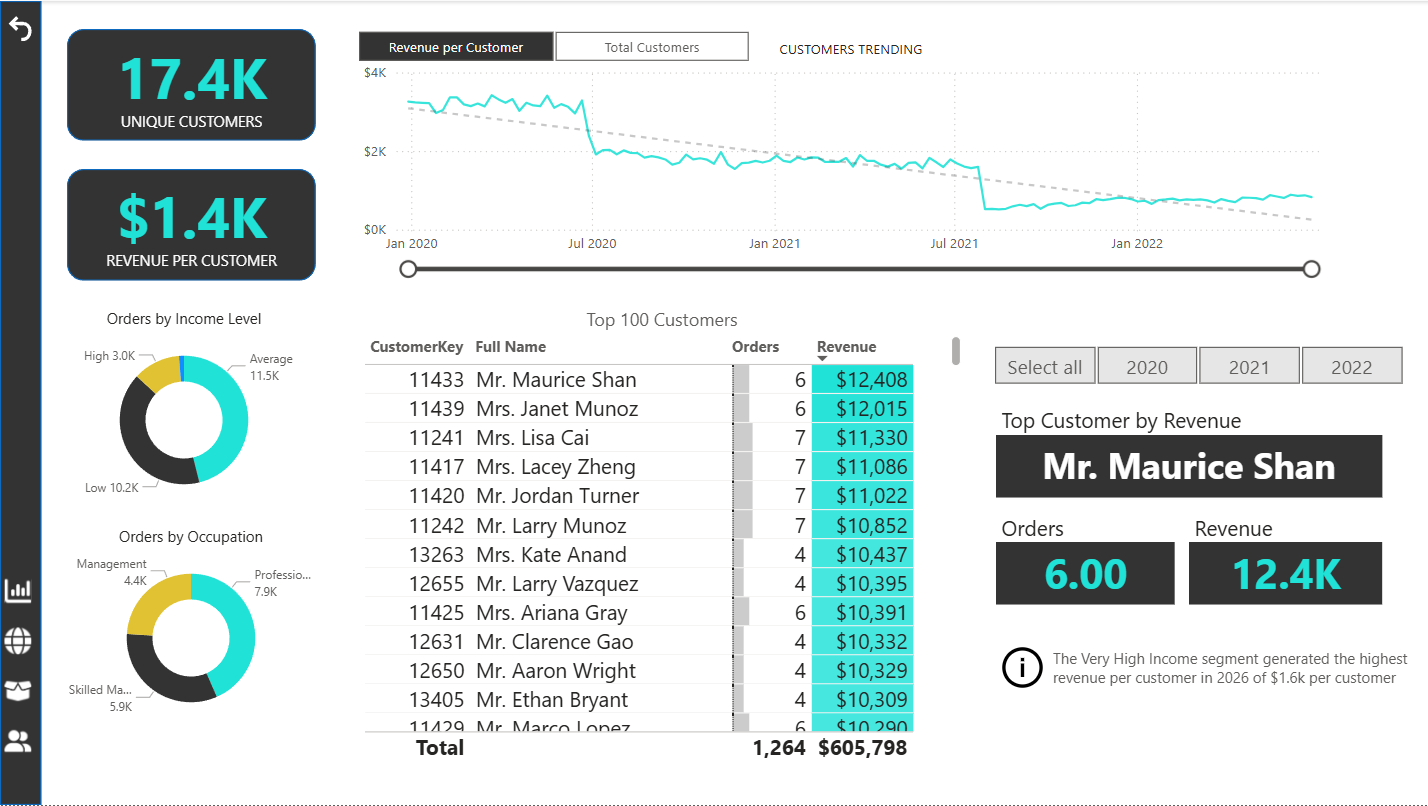

The page's visual inventory and layout, read from the dashboard file:
{"tool":"powerbi","page":{"name":"Customer Detail","canvas":[1280,720],"ordinal":3},"visuals":[{"type":"shape","box":[0,0,37,720],"z":0},{"type":"shape","box":[60,25.5,222.7,100],"z":1000},{"type":"card","fields":{"Values":["Measure Table.Total Customers"]},"box":[47.3,0,248.2,150],"z":2000},{"type":"shape","box":[60,150,222.7,100],"z":3000},{"type":"card","fields":{"Values":["Measure Table.Average Revenue per Customer"]},"box":[47.3,124.5,248.2,150],"z":4000},{"type":"lineChart","title":"CUSTOMERS TRENDING","fields":{"Category":["Calendar Lookup.Date Hierarchyy.Start of Year","Calendar Lookup.Date Hierarchyy.Start of Month","Calendar Lookup.Date Hierarchyy.Start of  the Week","Calendar Lookup.Date Hierarchyy.Date"],"Y":["Measure Table.Average Revenue per Customer"]},"box":[320.6,34,883,216.7],"z":5000},{"type":"donutChart","title":"Orders by Income Level","fields":{"Category":["Customer Lookup.Income Level"],"Y":["Measure Table.Total Orders"]},"box":[46.6,274.9,236.4,183.6],"z":6000},{"type":"donutChart","title":"Orders by Occupation","fields":{"Category":["Customer Lookup.Occupation"],"Y":["Measure Table.Total Orders"]},"box":[52.8,470.1,236.4,183.6],"z":7000},{"type":"tableEx","title":"Top 100 Customers","fields":{"Values":["Customer Lookup.CustomerKey","Customer Lookup.Full Name","Measure Table.Total Orders","Measure Table.Total Revenue"]},"box":[320.2,274.4,544.7,411],"z":8000},{"type":"card","fields":{"Values":["Measure Table.Full Name ( CUstomer Detail)"]},"box":[891.9,388.7,345.7,55.5],"z":9000},{"type":"card","fields":{"Values":["Measure Table.Total Revenue ( CUstomer Detail)"]},"box":[1064.8,484.5,172.8,55.5],"z":10000},{"type":"card","fields":{"Values":["Measure Table.Total Orders ( CUstomer Detail)"]},"box":[891.9,484.5,160.3,55.5],"z":11000},{"type":"textbox","box":[891.9,357.3,239.1,37.6],"z":12000},{"type":"textbox","box":[1064.8,454,163.9,37.6],"z":13000},{"type":"textbox","box":[891.9,454,120,37.6],"z":14000},{"type":"slicer","fields":{"Values":["Calendar Lookup.Year"]},"box":[865.1,302.7,414.6,47.5],"z":15000},{"type":"actionButton","box":[891.9,573.1,375.2,47.5],"z":16000},{"type":"actionButton","box":[2.7,9,37.6,31.3],"z":17000},{"type":"actionButton","box":[0,512.2,37.6,32.2],"z":18000},{"type":"actionButton","box":[0,557,37.6,32.2],"z":19000},{"type":"actionButton","box":[0,601.8,37.6,32.2],"z":20000},{"type":"actionButton","box":[0,646.6,37.6,32.2],"z":21000},{"type":"slicer","fields":{"Values":["Customer Metric Selection.Customer Metric Selection"]},"box":[295.5,20.6,399.4,39.4],"z":22001}]}

Visuals, with their boxes on the page's 1280x720 design canvas (x1, y1, x2, y2). These are canvas units, not pixel positions in the 1428x806 screenshot, which may show the page scaled, cropped or inside an application window:
shape: 0:0:37:720
shape: 60:26:283:126
card - Measure Table.Total Customers: 47:0:296:150
shape: 60:150:283:250
card - Measure Table.Average Revenue per Customer: 47:124:296:274
"CUSTOMERS TRENDING" lineChart: 321:34:1204:251
"Orders by Income Level" donutChart: 47:275:283:458
"Orders by Occupation" donutChart: 53:470:289:654
"Top 100 Customers" tableEx: 320:274:865:685
card - Measure Table.Full Name ( CUstomer Detail): 892:389:1238:444
card - Measure Table.Total Revenue ( CUstomer Detail): 1065:484:1238:540
card - Measure Table.Total Orders ( CUstomer Detail): 892:484:1052:540
textbox: 892:357:1131:395
textbox: 1065:454:1229:492
textbox: 892:454:1012:492
slicer - Calendar Lookup.Year: 865:303:1280:350
actionButton: 892:573:1267:621
actionButton: 3:9:40:40
actionButton: 0:512:38:544
actionButton: 0:557:38:589
actionButton: 0:602:38:634
actionButton: 0:647:38:679
slicer - Customer Metric Selection.Customer Metric Selection: 296:21:695:60
